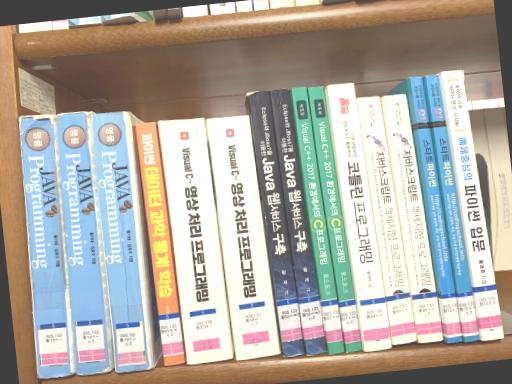book-spine: (158, 117, 232, 365), (207, 114, 280, 360), (328, 82, 392, 351), (442, 70, 503, 340), (91, 111, 152, 372), (269, 88, 326, 356), (247, 90, 304, 357), (383, 94, 443, 342), (358, 95, 416, 344), (425, 75, 479, 341), (56, 111, 110, 374), (291, 86, 343, 354), (309, 86, 361, 353), (410, 76, 462, 342), (18, 114, 70, 378), (135, 122, 183, 365)
